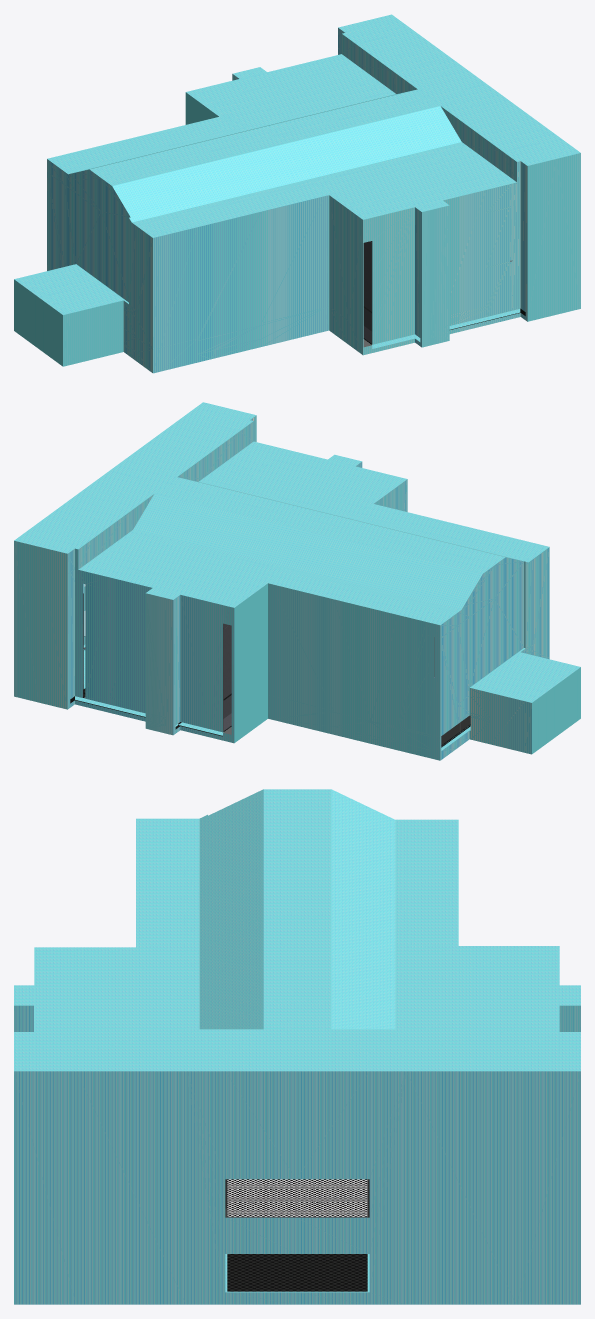
File: fnaf_security_breach_teaser_map.glb
The picture shows the model from 3 angles, top to bottom: view 1: azimuth 30°, elevation 25°; view 2: azimuth 150°, elevation 25°; view 3: azimuth 270°, elevation 25°; orthographic projection. The views are drawn at different scales.
Visible parts, largest first — view 1: world_geometry_18; view 2: world_geometry_18; view 3: world_geometry_18.
Boxes of the visible parts, x1,y1,x2,y2 form: world_geometry_18: (14, 14, 580, 373); world_geometry_18: (14, 402, 580, 760); world_geometry_18: (14, 789, 580, 1304).
Bounding box in the file's own units: 137 × 45.68 × 101.
Materials: 44 (33 with a texture image).
